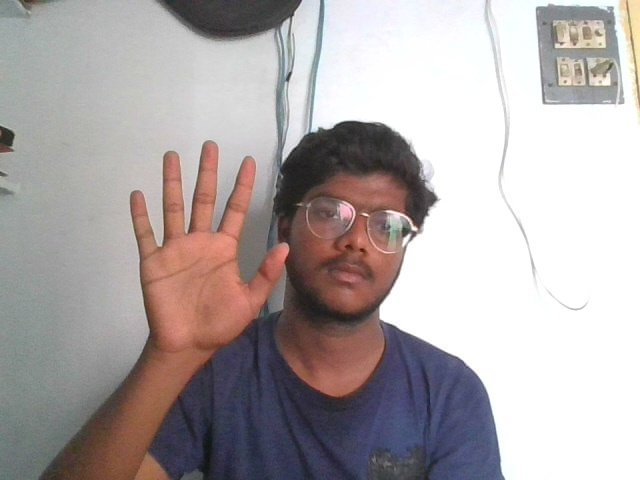Hello: (129, 137, 292, 344)
